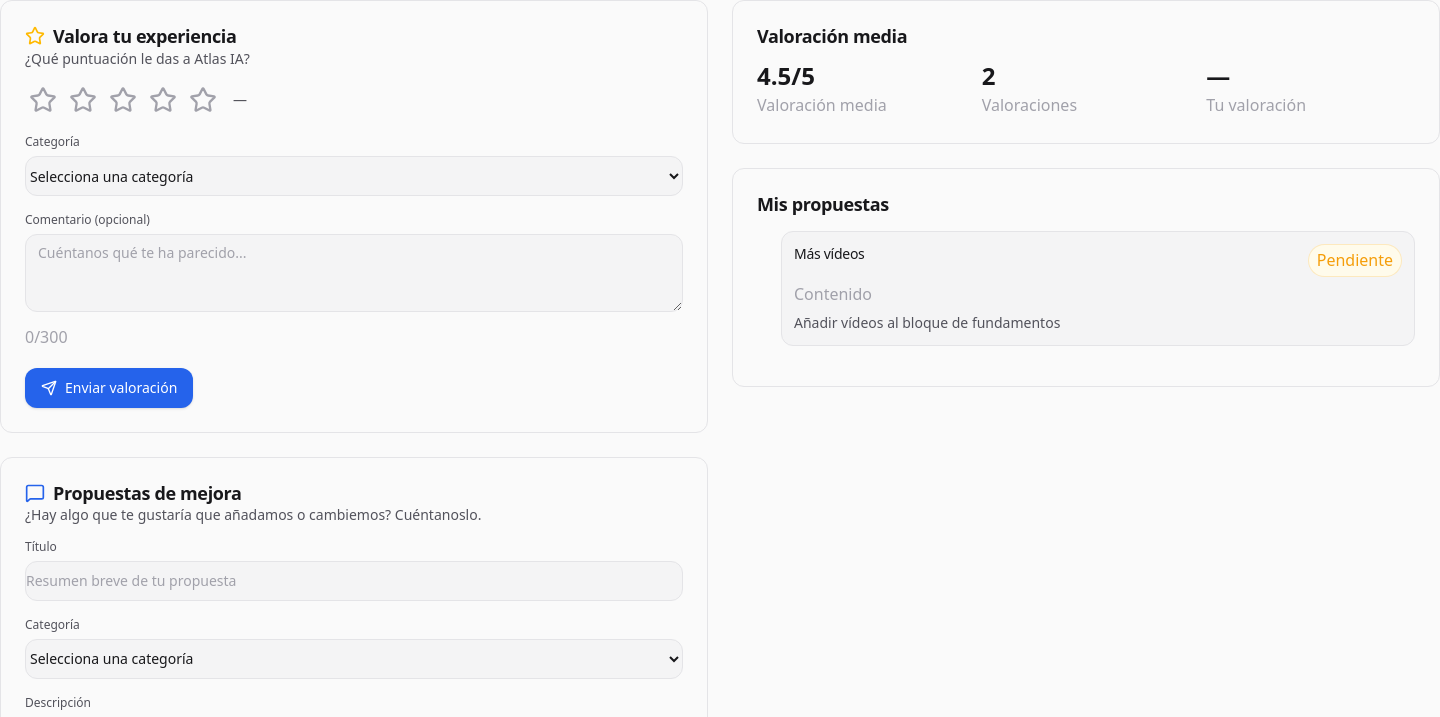
ValoracionContent › muestra error si se envía la valoración sin puntuación
Click the button "Enviar valoración" at (109, 388), box [25, 368, 193, 408]
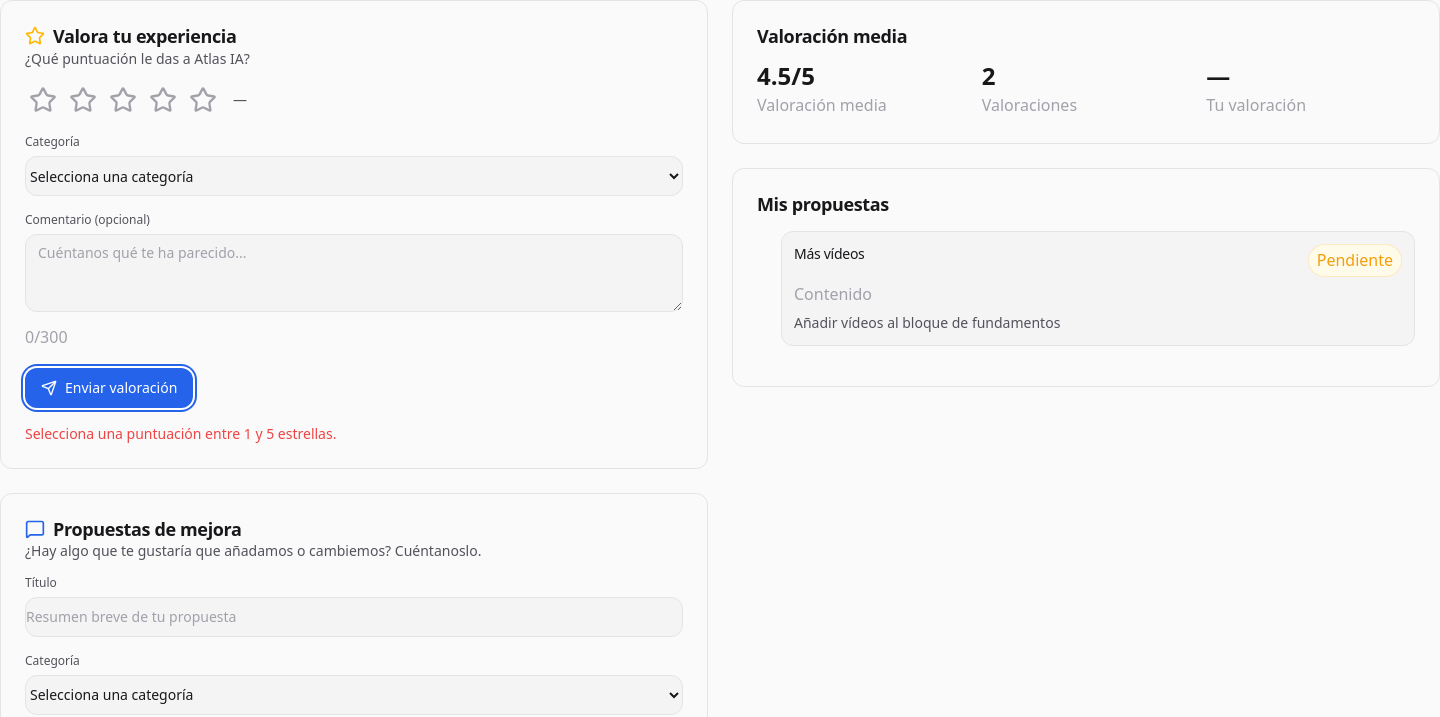
Now the text "Selecciona una puntuación entre 1 y 5 estrellas." is shown, box [25, 424, 336, 443]
